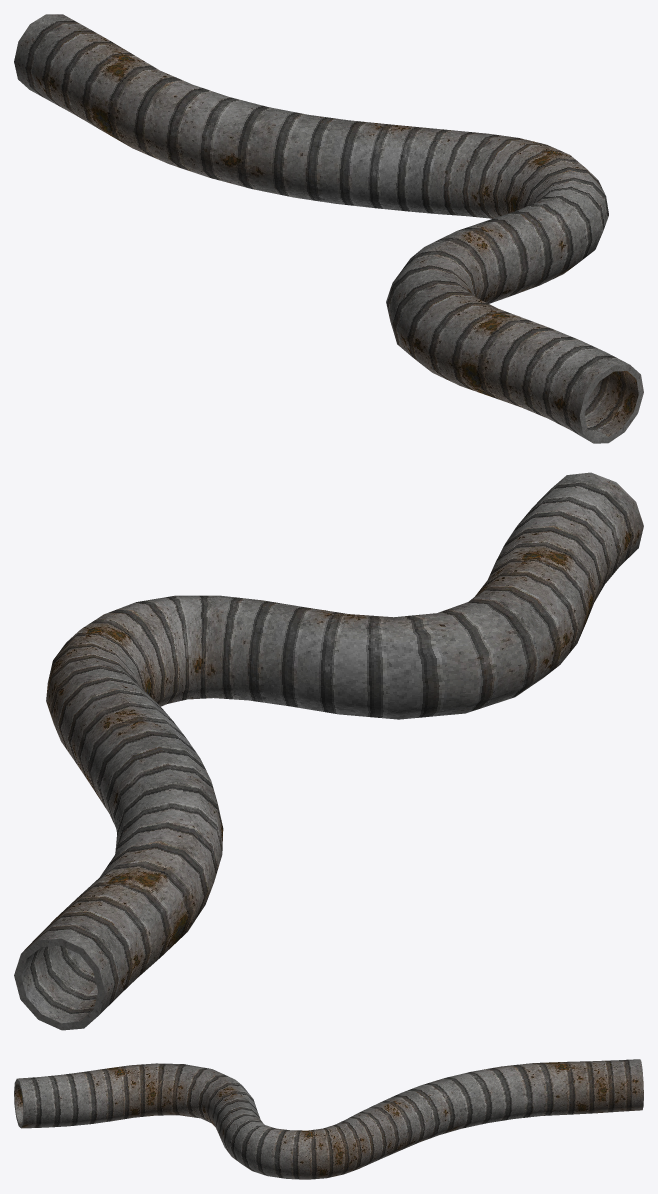
Rendered from pipe_e_1.glb.
3 views of the same model, one above another, from view 1: azimuth 30°, elevation 25°; view 2: azimuth 150°, elevation 25°; view 3: azimuth 270°, elevation 25° (orthographic). The views are drawn at different scales.
Visible parts, largest first — view 1: pipe_e_1; view 2: pipe_e_1; view 3: pipe_e_1.
Boxes of the visible parts, x1=… form: pipe_e_1: x1=14, y1=14, x2=643, y2=443; pipe_e_1: x1=14, y1=472, x2=643, y2=1030; pipe_e_1: x1=14, y1=1059, x2=643, y2=1179.
Bounding box in the file's own units: 1.05 × 0.25 × 3.05.
Materials: 1 (1 with a texture image).
